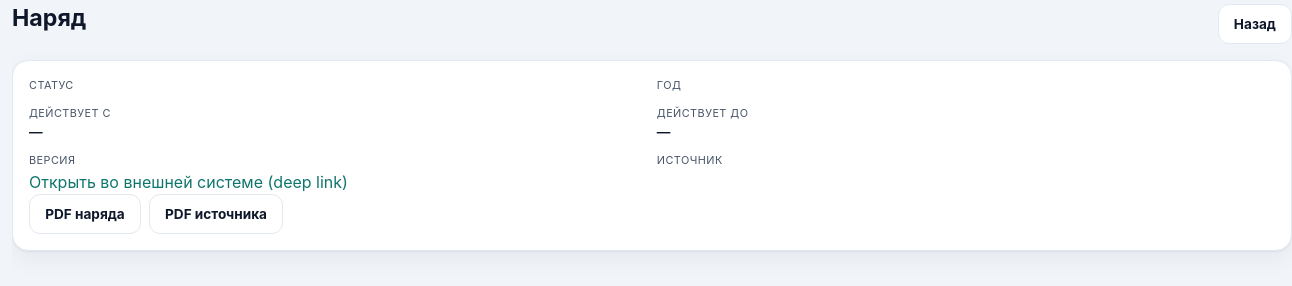
PermitsScreen PDF and deep links (OQ-03) › opens the external PDF deep link when the source provides one
Click the button "PDF наряда". click: (85, 214)
box: [29,194,141,234]
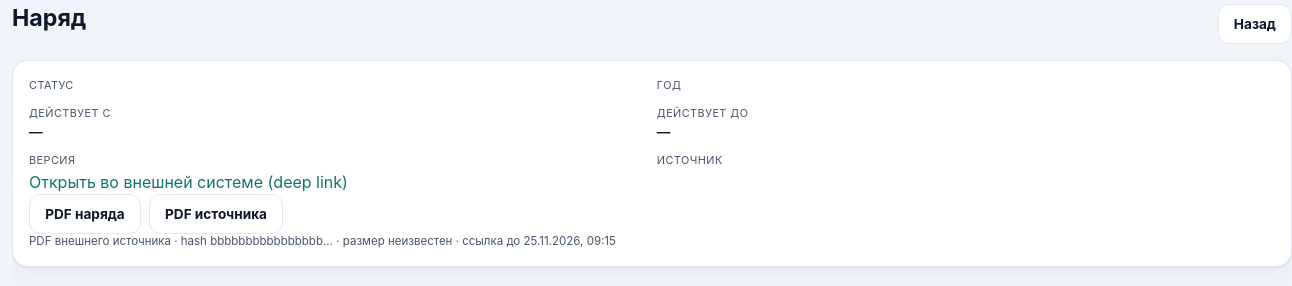
Check: the text "PDF внешнего источника" is shown, box [29,234,171,248]
